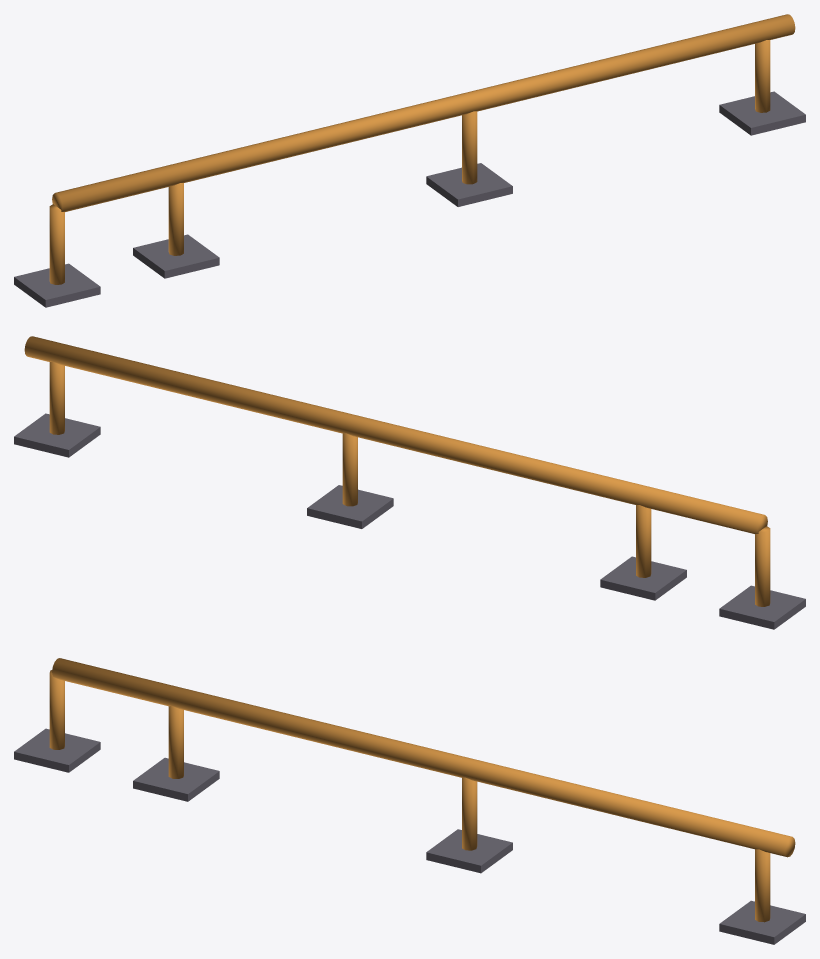
File: Plat_Rail.glb
The picture shows the model from 3 angles, top to bottom: view 1: azimuth 30°, elevation 25°; view 2: azimuth 150°, elevation 25°; view 3: azimuth 330°, elevation 25°; orthographic projection.
Parts seen in each view (by area): view 1: Plat_Rail_Bar; view 2: Plat_Rail_Bar; view 3: Plat_Rail_Bar.
Part boxes in pixels (x1,y1,x2,y2): Plat_Rail_Bar: [14, 14, 805, 307]; Plat_Rail_Bar: [14, 336, 805, 629]; Plat_Rail_Bar: [14, 658, 805, 944].
Size of the model in its own units: 4.15 by 0.5 by 0.2999.
